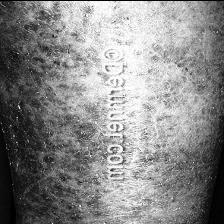Non-Cancerous Skin Condition: (8, 0, 110, 224), (128, 37, 196, 224)
